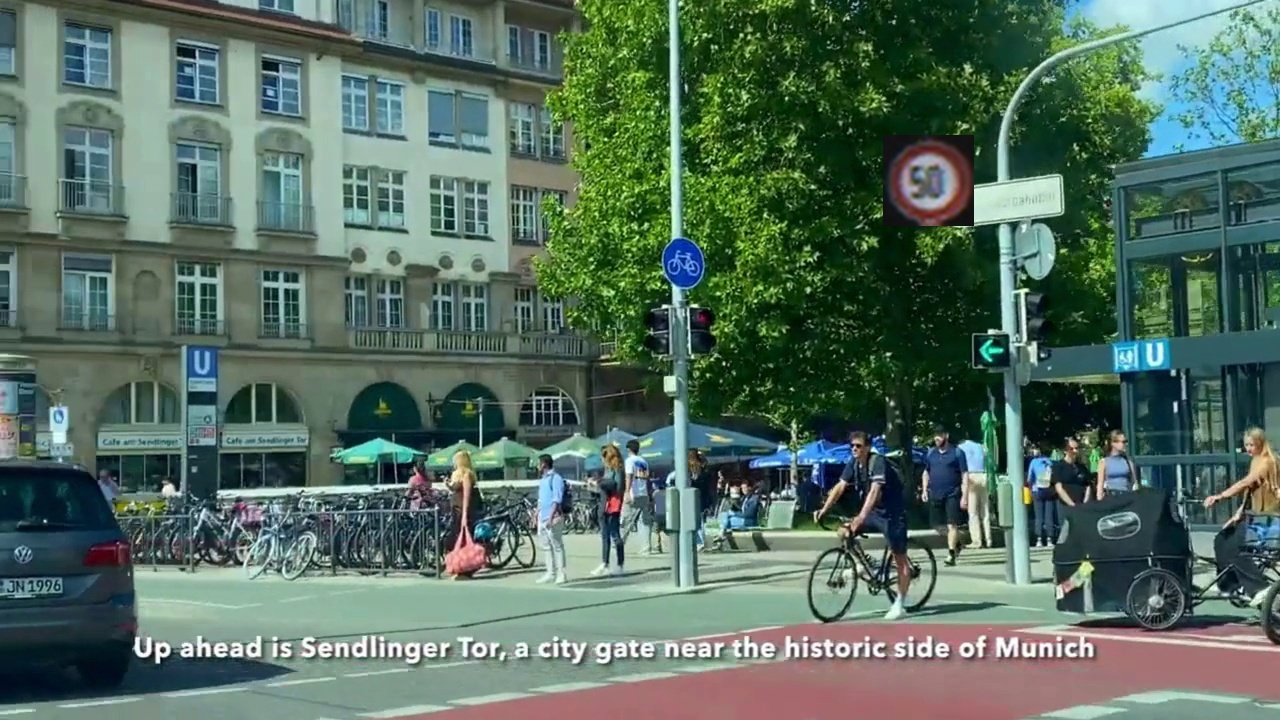Speed 50: (883, 135, 974, 226)
